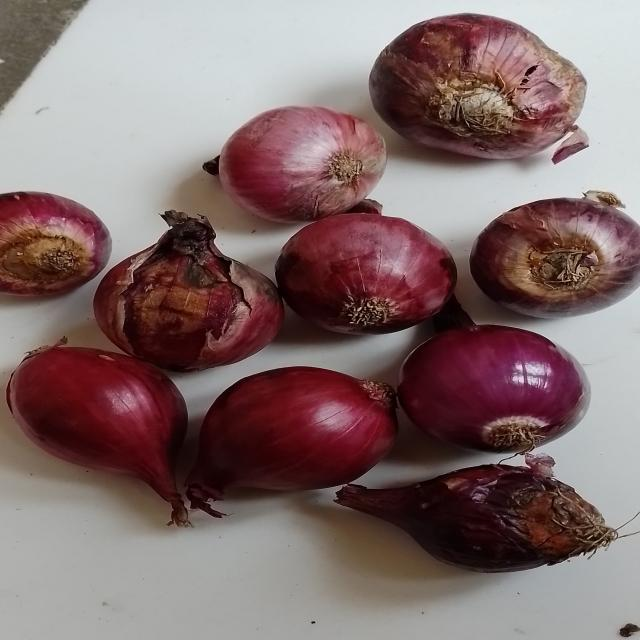Onion: (6, 346, 188, 526), (186, 367, 397, 518), (370, 13, 588, 158), (93, 210, 284, 370), (337, 466, 618, 574), (398, 325, 592, 452), (276, 213, 458, 334), (471, 191, 640, 318), (217, 106, 387, 222), (0, 192, 111, 296)
